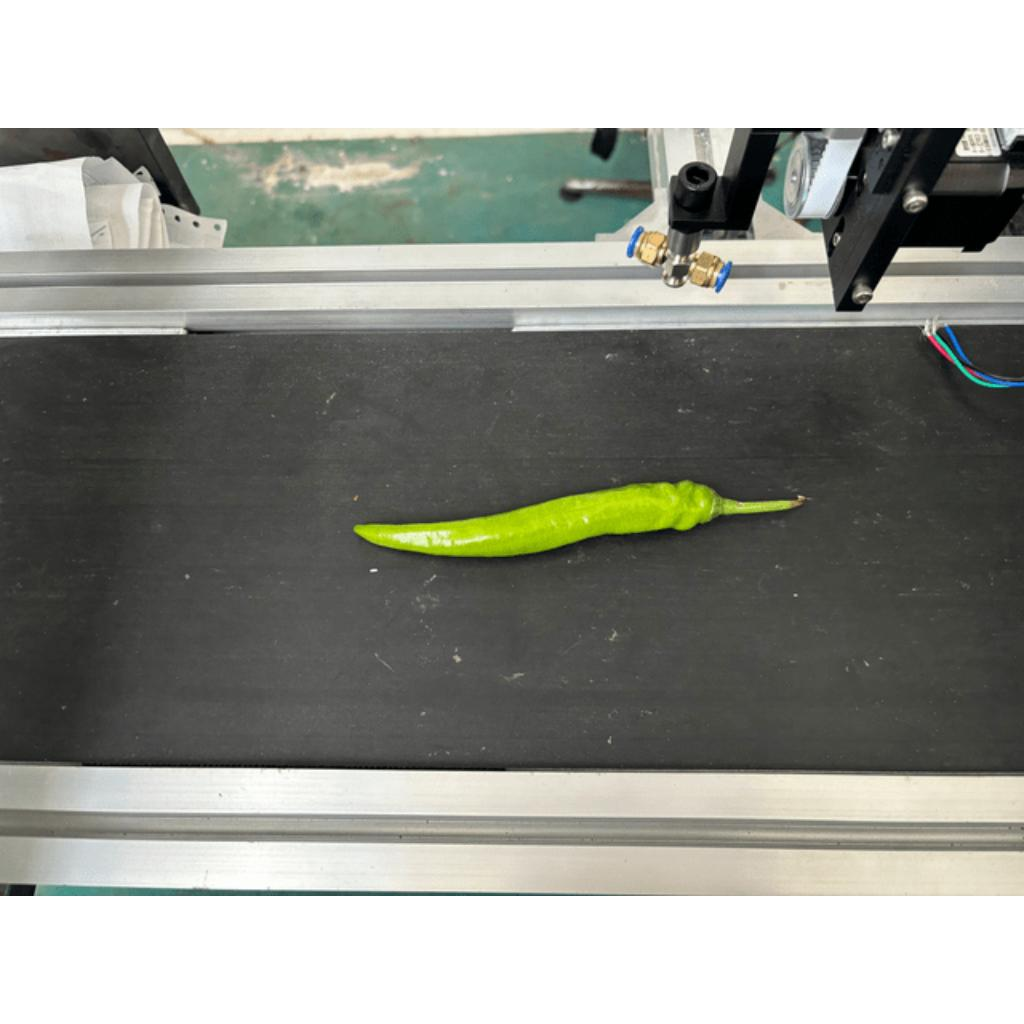chili: (353, 478, 722, 559)
